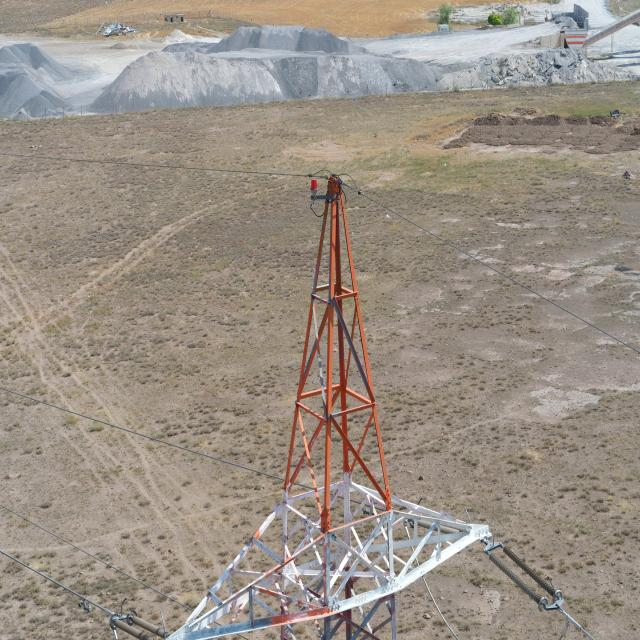direk: (271, 183, 401, 640)
